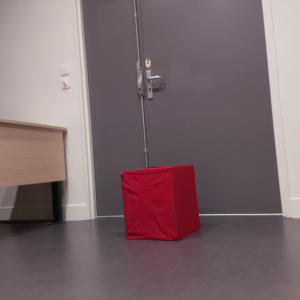medium: (120, 164, 204, 243)
